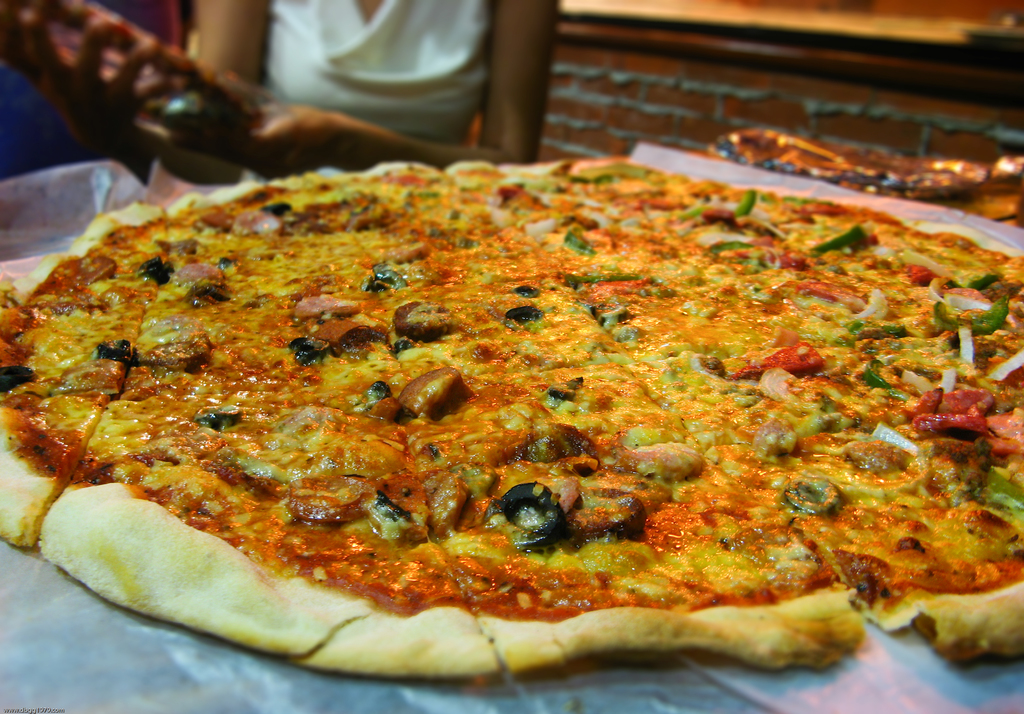Pizza: (0, 131, 1024, 696)
